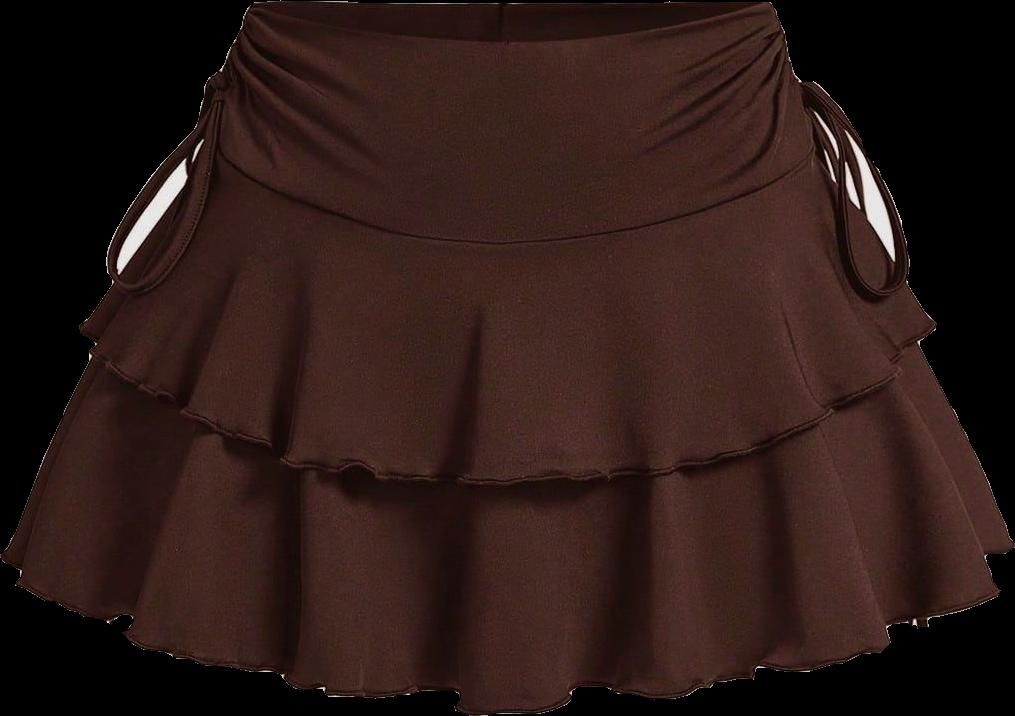Hemline: (0, 539, 1014, 715), (80, 321, 938, 485)
Waistline: (201, 132, 820, 249), (250, 0, 769, 51)
